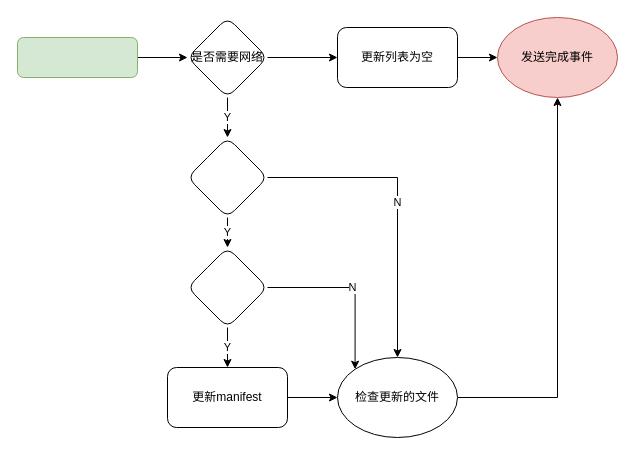
Image size: 635x455. Some labels were removed from this diagram. The box of each missing label's shape, as (x1, y1, x2, y2) in pixels:
Start: (16, 36, 138, 78)
是否manifest有新的版本: (186, 246, 268, 328)
是否需要更新res.json: (186, 136, 268, 218)
